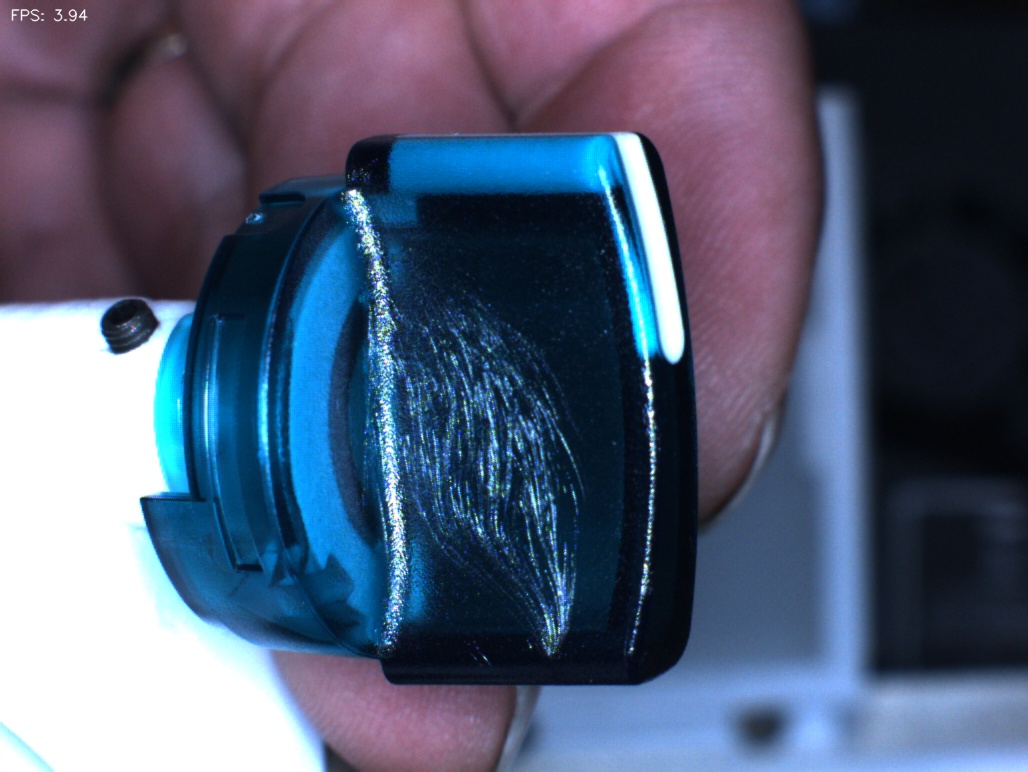Givrage: (384, 276, 593, 659)
